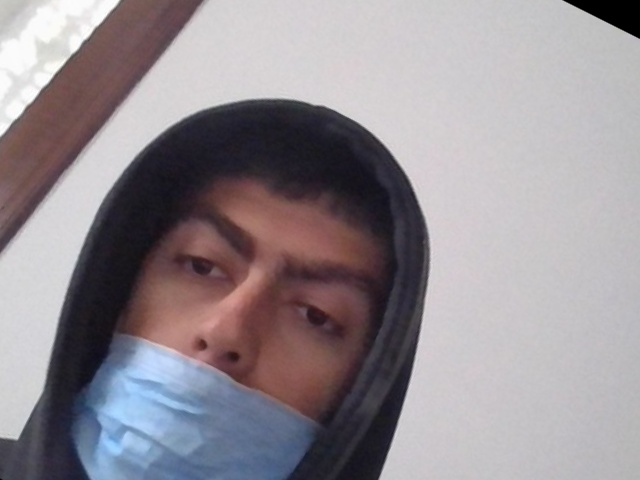mask_weared_incorrect: (72, 159, 389, 480)
